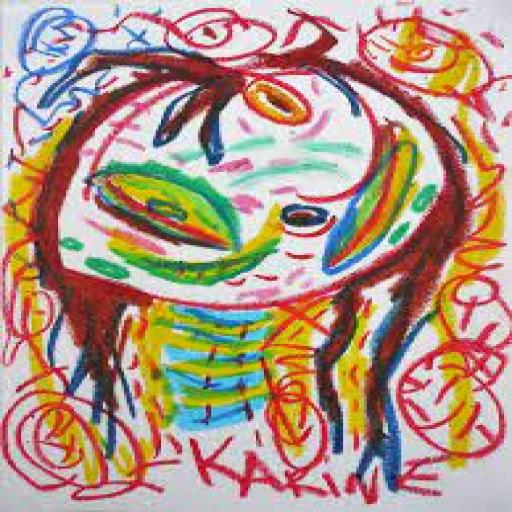person: (22, 16, 475, 504)
